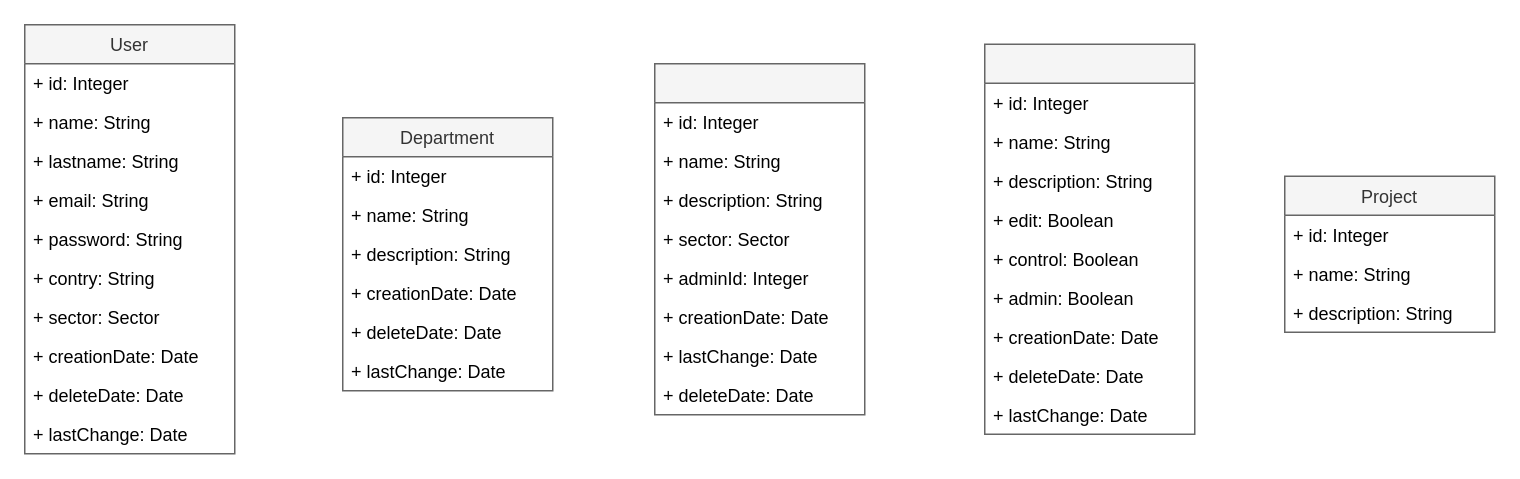
The diagram is 1520 pixels wide and 479 high, and some of its shapes have lost their labels. The shapes that lost their labels are listed below. From the top down, each one's box as (x1, y1, x2, y2) in pixels, then its label:
(653, 62, 865, 415): Organization
(983, 43, 1195, 434): Role
